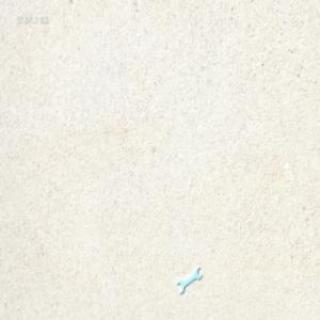Wrenchtrack_idkeyframe: (176, 261, 202, 290)
